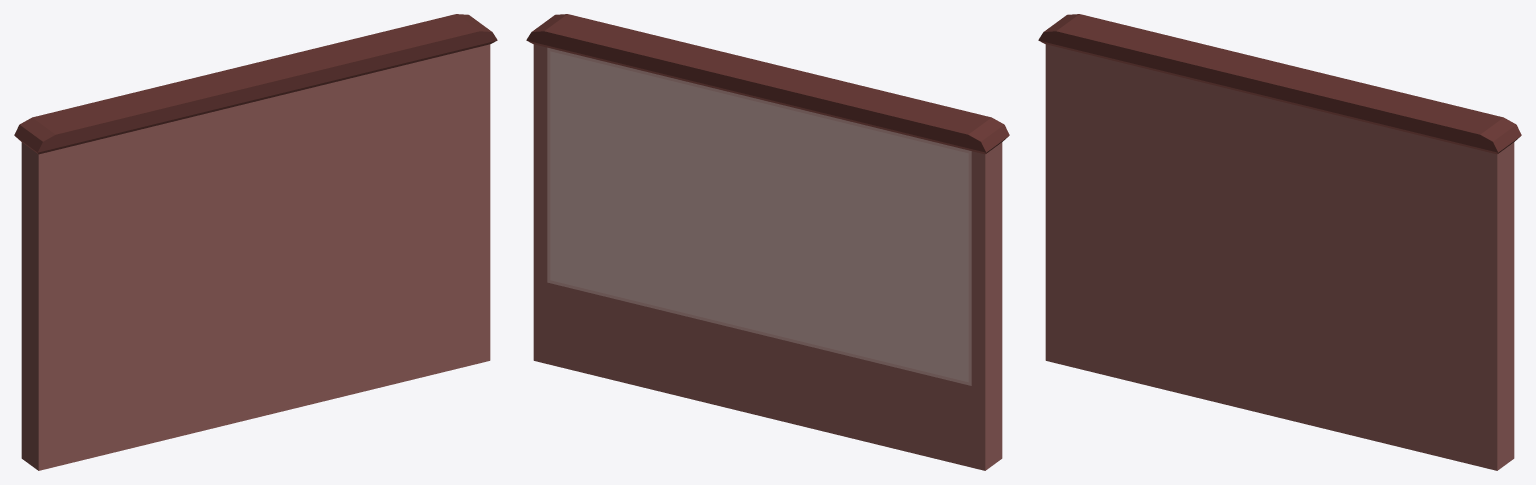
The model's file is 3d_BlackNwhiteBoard.fbx.
The picture shows the model from 3 angles, left to right: view 1: azimuth 30°, elevation 25°; view 2: azimuth 150°, elevation 25°; view 3: azimuth 330°, elevation 25°; orthographic projection.
Visible parts, largest first — view 1: 3d_BlackNwhiteBoard; view 2: 3d_BlackNwhiteBoard; view 3: 3d_BlackNwhiteBoard.
Boxes of the visible parts, box(x1,y1,x2,y2) form: 3d_BlackNwhiteBoard: box(14, 14, 497, 470); 3d_BlackNwhiteBoard: box(526, 14, 1009, 470); 3d_BlackNwhiteBoard: box(1038, 14, 1521, 470).
Bounding box in the file's own units: 0.921 × 0.6412 × 0.0817.
